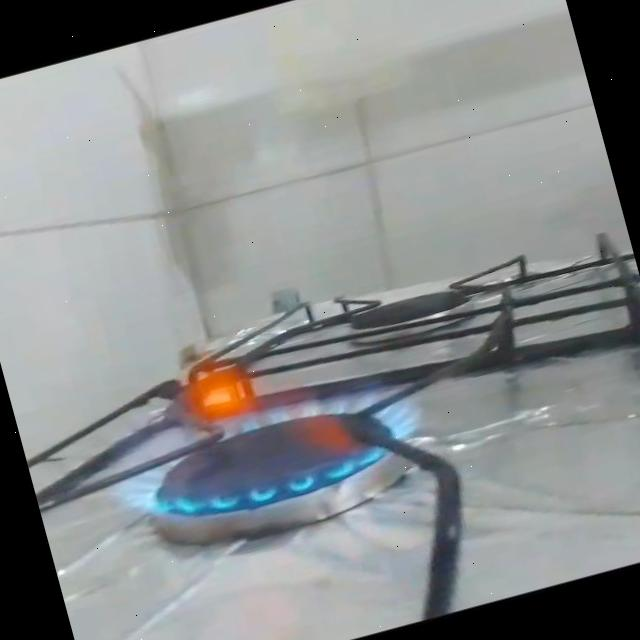fire: (70, 302, 440, 549)
